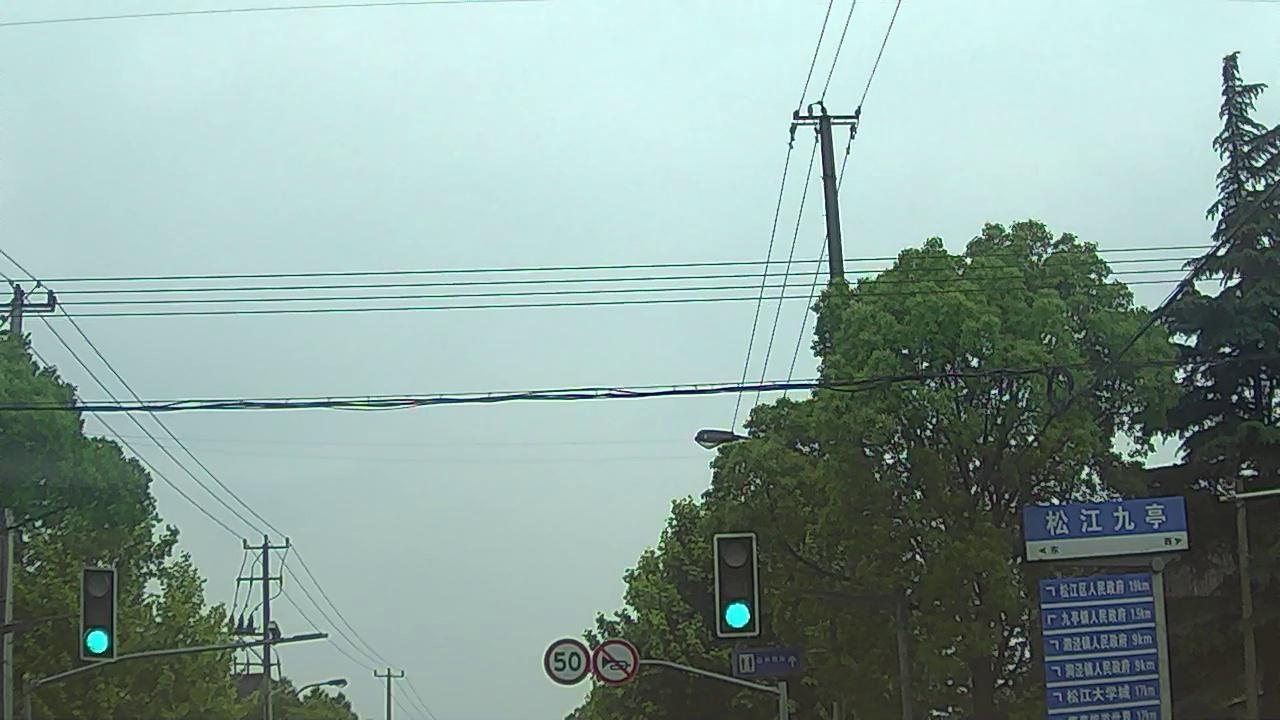traffic_light: (716, 538, 757, 634), (84, 567, 114, 659)
